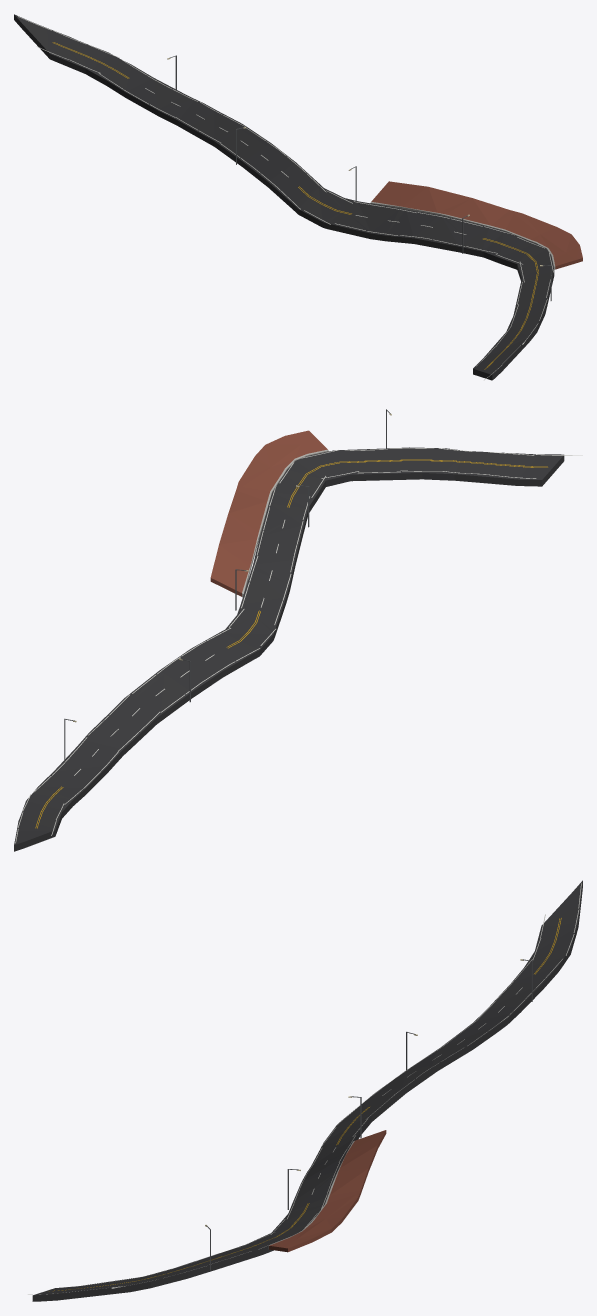
3 views of the same model, one above another, from view 1: azimuth 30°, elevation 25°; view 2: azimuth 150°, elevation 25°; view 3: azimuth 330°, elevation 25° (orthographic). The views are drawn at different scales.
Size of the model in its own units: 40.25 by 13.89 by 184.
